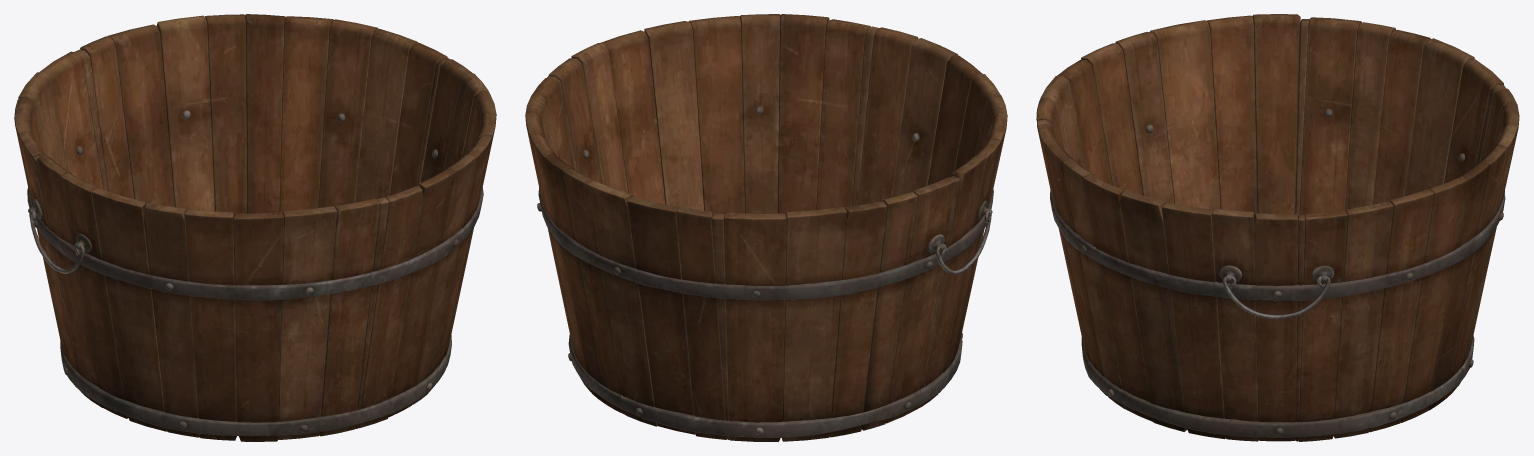
Rendered from wooden_bucket_02.glb.
The picture shows the model from 3 angles, left to right: view 1: azimuth 30°, elevation 25°; view 2: azimuth 150°, elevation 25°; view 3: azimuth 270°, elevation 25°; orthographic projection.
Visible parts, largest first — view 1: wooden_bucket_02; view 2: wooden_bucket_02; view 3: wooden_bucket_02.
Part boxes in pixels (x1,y1,x2,y2): wooden_bucket_02: (14,14,496,441); wooden_bucket_02: (525,14,1007,441); wooden_bucket_02: (1036,14,1519,441).
Bounding box in the file's own units: 0.6153 × 0.3504 × 0.6163.
1 material, 1 textured.
